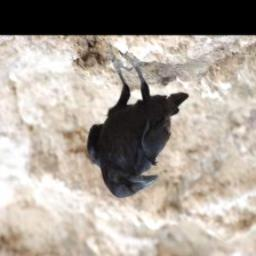Crow: (88, 54, 190, 200)
